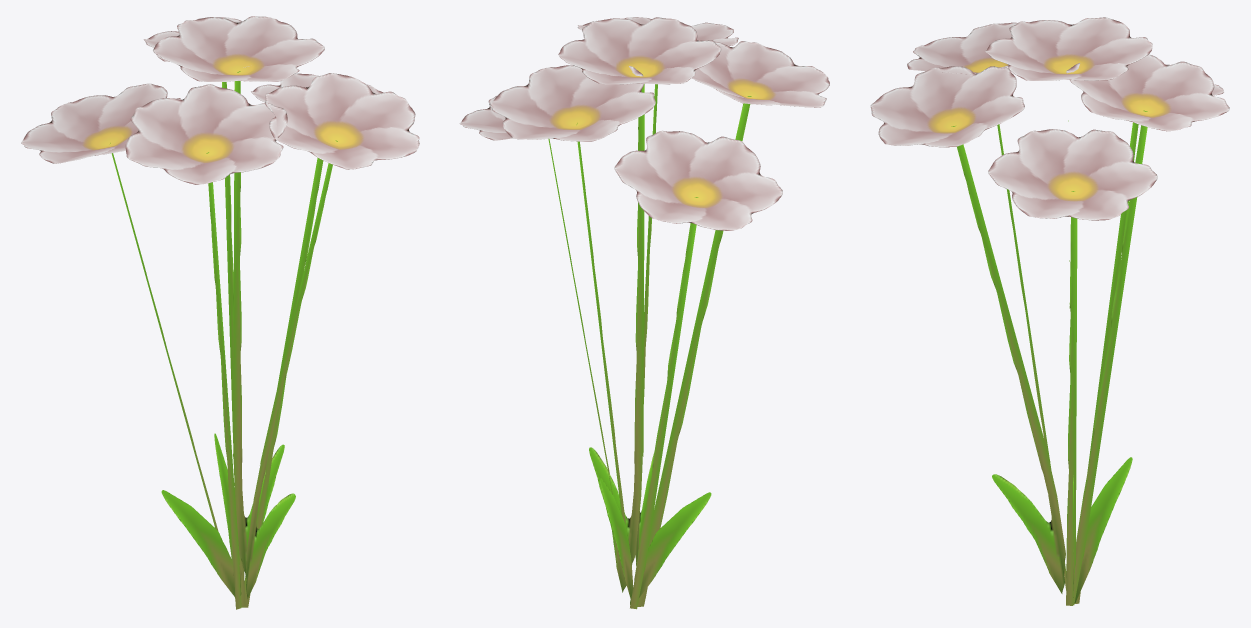
File: SM_F_Flower_03.fbx
3 views of the same model, side by side, from view 1: azimuth 30°, elevation 25°; view 2: azimuth 150°, elevation 25°; view 3: azimuth 270°, elevation 25° (orthographic).
Visible parts, largest first — view 1: SM_F_Flower_04; view 2: SM_F_Flower_04; view 3: SM_F_Flower_04.
Part boxes in pixels (x1=…): SM_F_Flower_04: x1=21, y1=16, x2=419, y2=609; SM_F_Flower_04: x1=459, y1=17, x2=829, y2=609; SM_F_Flower_04: x1=870, y1=17, x2=1229, y2=605.
Size of the model in its own units: 24.63 by 39.57 by 23.6.
